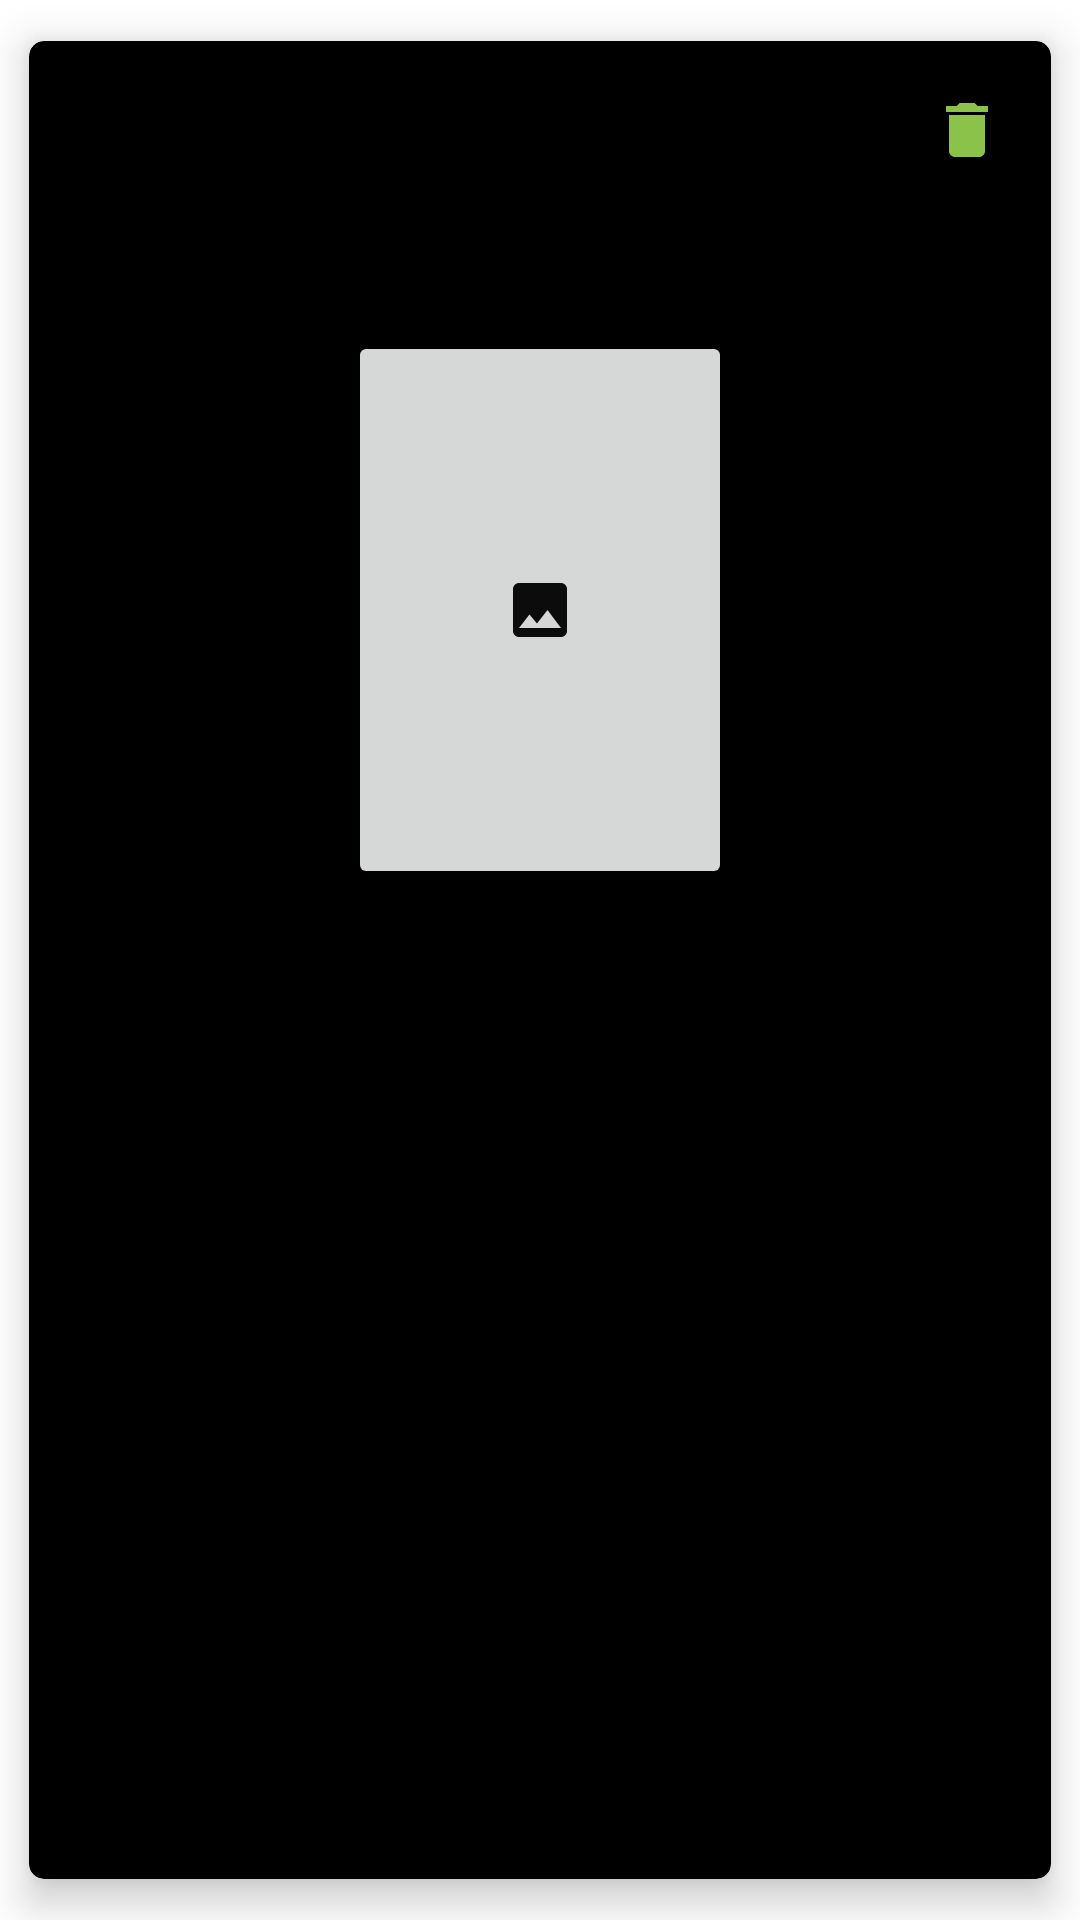

Point at icon controls on the screen. Image size 1080 × 1920, points as (x=x, y=y).
delete: (x=967, y=130)
